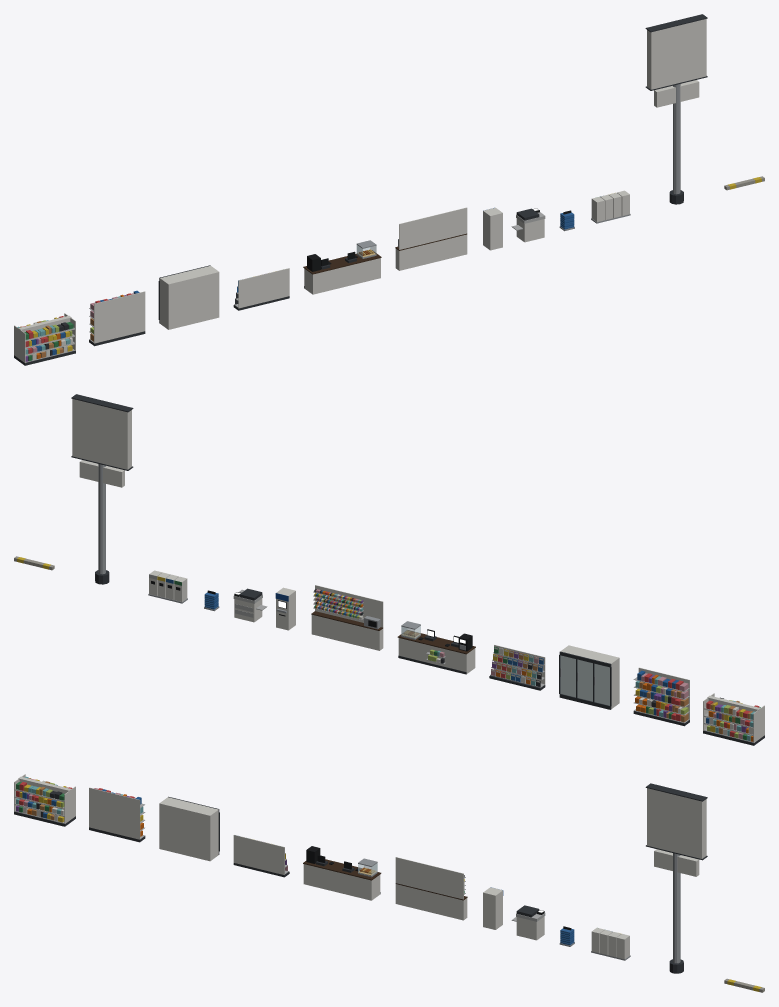
Rendered from konbini.glb.
3 views of the same model, one above another, from view 1: azimuth 30°, elevation 25°; view 2: azimuth 150°, elevation 25°; view 3: azimuth 330°, elevation 25° (orthographic).
Visible parts, largest first — view 1: konbini_polesign_body, konbini_backwall_body, konbini_fridge_body, konbini_counter_body, konbini_wallshelf_body, konbini_gondola_body, konbini_magrack_body, konbini_bins_body, konbini_copier_body, konbini_atm_body; view 2: konbini_polesign_body, konbini_backwall_body, konbini_fridge_body, konbini_counter_body, konbini_wallshelf_body, konbini_gondola_body, konbini_magrack_body, konbini_bins_body, konbini_copier_body, konbini_atm_body; view 3: konbini_polesign_body, konbini_backwall_body, konbini_fridge_body, konbini_counter_body, konbini_gondola_body, konbini_wallshelf_body, konbini_magrack_body, konbini_bins_body, konbini_copier_body, konbini_atm_body.
Part boxes in pixels (x1,y1,x2,y2): konbini_polesign_body: [645, 14, 707, 204]; konbini_backwall_body: [395, 207, 467, 270]; konbini_fridge_body: [158, 265, 219, 329]; konbini_counter_body: [303, 240, 381, 294]; konbini_wallshelf_body: [89, 290, 145, 346]; konbini_gondola_body: [14, 313, 75, 365]; konbini_magrack_body: [233, 268, 289, 310]; konbini_bins_body: [591, 190, 630, 223]; konbini_copier_body: [511, 208, 545, 242]; konbini_atm_body: [483, 207, 502, 250]; konbini_polesign_body: [71, 394, 133, 584]; konbini_backwall_body: [311, 585, 383, 650]; konbini_fridge_body: [559, 645, 619, 709]; konbini_counter_body: [397, 621, 475, 674]; konbini_wallshelf_body: [633, 667, 689, 726]; konbini_gondola_body: [703, 693, 764, 745]; konbini_magrack_body: [489, 645, 545, 690]; konbini_bins_body: [148, 570, 187, 603]; konbini_copier_body: [233, 588, 267, 622]; konbini_atm_body: [275, 587, 295, 630]; konbini_polesign_body: [645, 783, 707, 973]; konbini_backwall_body: [395, 857, 467, 920]; konbini_fridge_body: [159, 796, 219, 861]; konbini_counter_body: [303, 846, 381, 900]; konbini_gondola_body: [14, 774, 75, 826]; konbini_wallshelf_body: [89, 787, 145, 842]; konbini_magrack_body: [233, 835, 289, 877]; konbini_bins_body: [591, 927, 630, 960]; konbini_copier_body: [511, 905, 545, 940]; konbini_atm_body: [483, 887, 503, 929].
Bounding box in the file's own units: 35.05 × 8.04 × 0.935.
